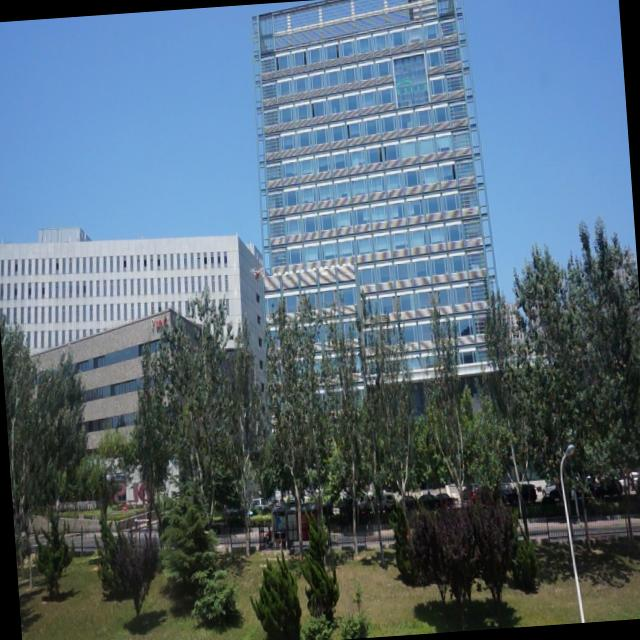drone: (249, 264, 265, 282)
